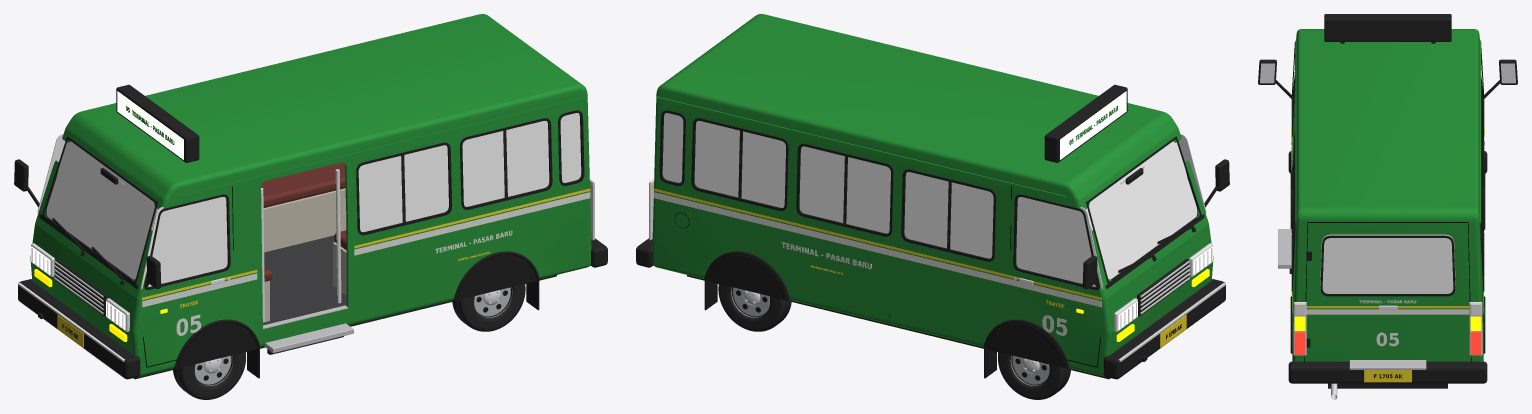
File: angkot.glb
The picture shows the model from 3 angles, left to right: view 1: azimuth 30°, elevation 25°; view 2: azimuth 150°, elevation 25°; view 3: azimuth 270°, elevation 25°; orthographic projection. The views are drawn at different scales.
Visible parts, largest first — view 1: Body, Windscreen, SideGlass, SideGlass.001, DoorGlass, Floor, BenchRBase, FrontBumper, Wheel.004, Wheel.002, BenchRCushion, Liner.001 (+17 smaller); view 2: Body, Windscreen, SideGlass.004, SideGlass.005, SideGlass.003, DoorGlass.001, Stripe.004, FrontBumper, Wheel.003, Wheel.001, Liner, Liner.002 (+14 smaller); view 3: Body, RearGlass, SignBox, RearBumper, RearRubber, RearStripe, RearStep, Chassis, RearPlate, StepPlate, Gutter, RearStripe.001 (+10 smaller).
Part boxes in pixels (x1,y1,x2,y2): Body: (30, 14, 591, 376); Windscreen: (46, 143, 157, 279); SideGlass: (358, 145, 448, 232); SideGlass.001: (462, 121, 549, 206); DoorGlass: (141, 197, 227, 289); Floor: (244, 235, 346, 331); BenchRBase: (263, 188, 346, 252); FrontBumper: (18, 279, 140, 379); Wheel.004: (452, 284, 525, 331); Wheel.002: (173, 352, 245, 399); BenchRCushion: (261, 162, 345, 207); Liner.001: (178, 323, 257, 368); Body: (652, 14, 1213, 376); Windscreen: (1086, 143, 1197, 279); SideGlass.004: (799, 146, 890, 233); SideGlass.005: (694, 121, 785, 207); SideGlass.003: (904, 172, 993, 258); DoorGlass.001: (1016, 197, 1102, 289); Stripe.004: (653, 192, 1101, 307); FrontBumper: (1103, 279, 1225, 379); Wheel.003: (718, 284, 791, 331); Wheel.001: (998, 352, 1070, 399); Liner: (986, 323, 1065, 368); Liner.002: (707, 255, 786, 299); Body: (1292, 29, 1483, 361); RearGlass: (1320, 234, 1455, 293); SignBox: (1324, 14, 1451, 41); RearBumper: (1288, 361, 1487, 383); RearRubber: (1320, 235, 1455, 296); RearStripe: (1306, 309, 1469, 314); RearStep: (1349, 360, 1426, 369); Chassis: (1328, 383, 1447, 388); RearPlate: (1364, 370, 1411, 382); StepPlate: (1278, 229, 1291, 268); Gutter: (1479, 40, 1481, 223); RearStripe.001: (1306, 306, 1469, 308).
Size of the model in its own units: 4.3 by 2.13 by 2.17.
